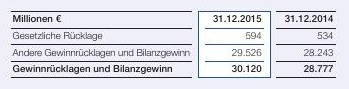table: (0, 0, 349, 89)
